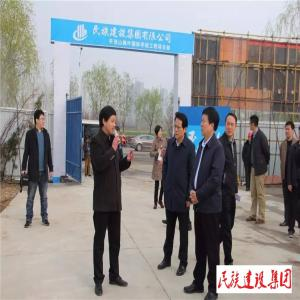none: (200, 106, 221, 138), (99, 106, 117, 136), (174, 114, 189, 141), (225, 112, 239, 138), (34, 108, 46, 131), (285, 122, 296, 141), (249, 115, 260, 131), (156, 125, 163, 139), (115, 125, 121, 137), (86, 136, 91, 143)
red: (248, 131, 254, 143)
